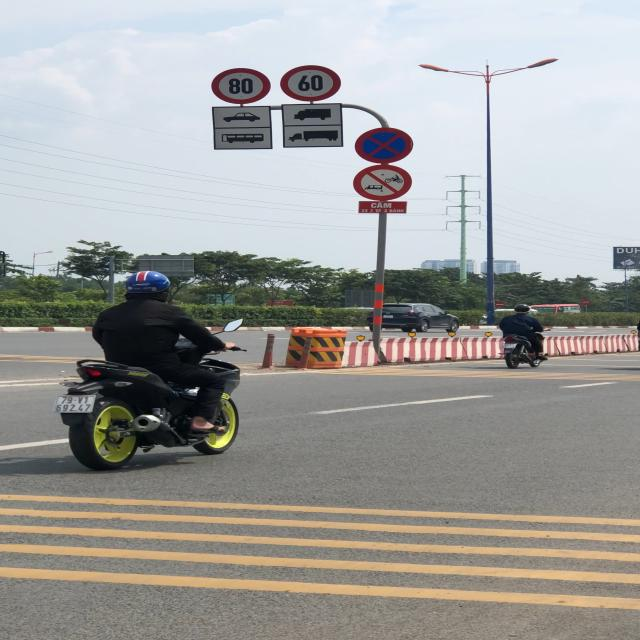Bien bao cam dung xe va do xe: (354, 126, 416, 164)
Bien bao toc do toi da cho phep: (278, 64, 344, 103), (210, 67, 274, 105)
